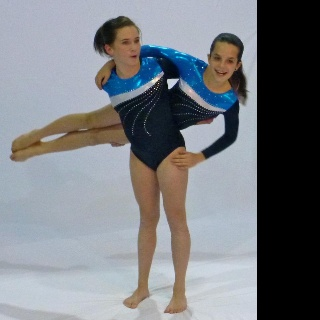without_mask: (113, 24, 140, 66), (210, 41, 237, 81)
